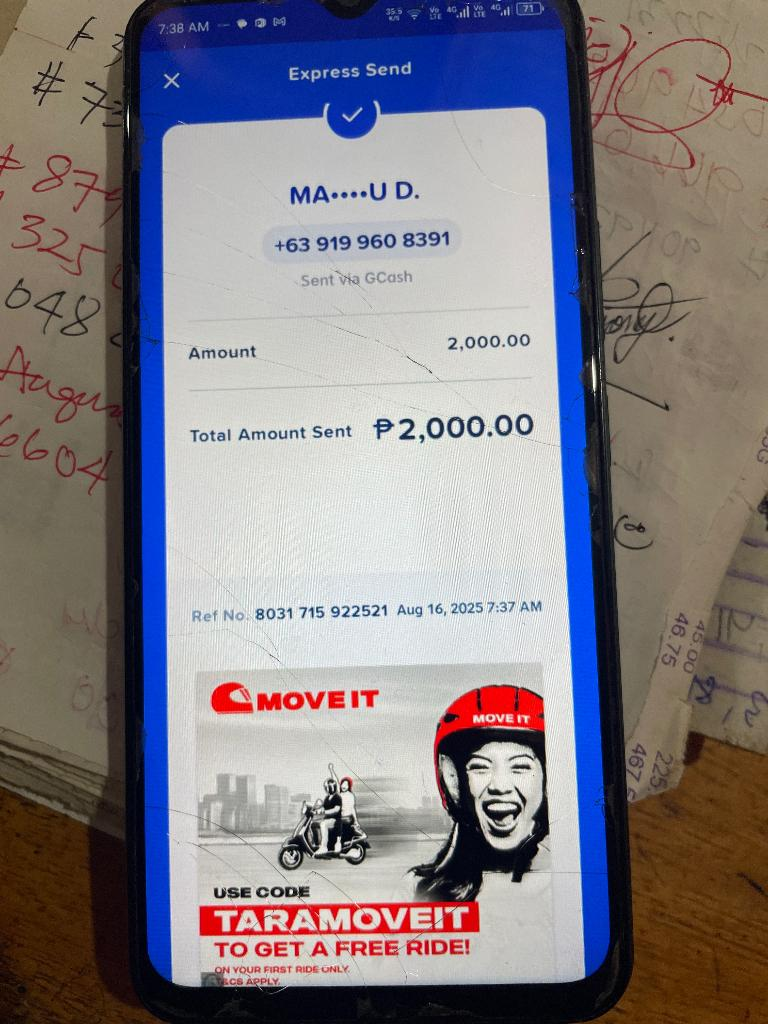Receipt: (140, 31, 611, 973)
